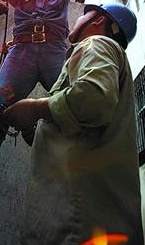boots: (0, 149, 14, 184)
hard-hat: (82, 1, 136, 43)
ppe-suit: (0, 0, 75, 172)
